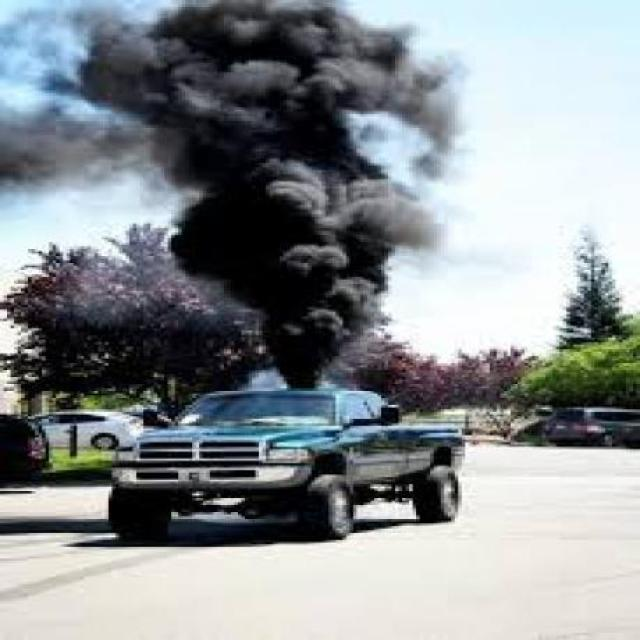Smoke: (98, 1, 441, 388)
